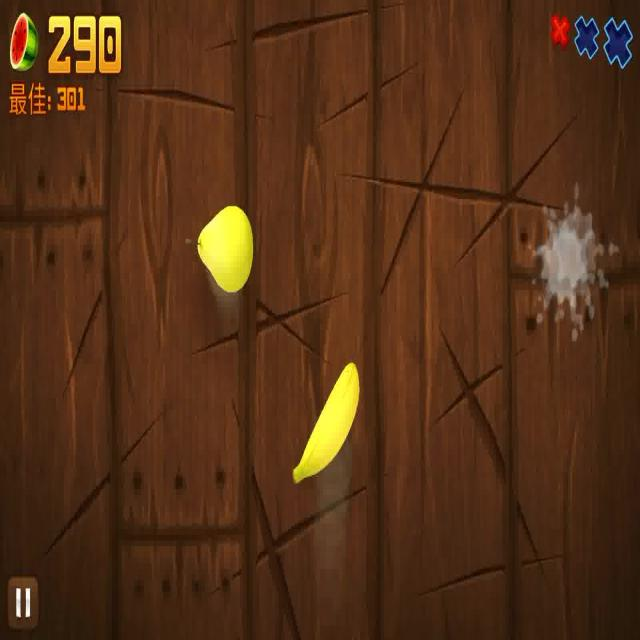fruit: (292, 358, 359, 483), (192, 201, 254, 294)
